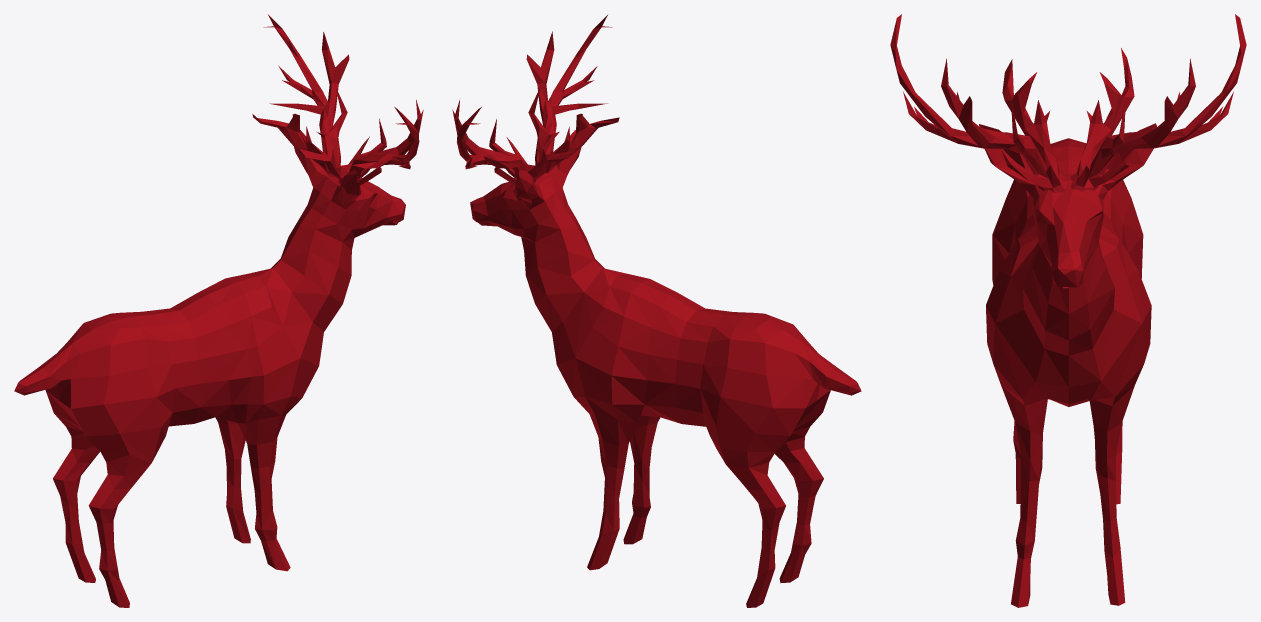
The model's file is myObject-1538757615614.obj.
3 renders of one model, left to right at view 1: azimuth 30°, elevation 25°; view 2: azimuth 150°, elevation 25°; view 3: azimuth 270°, elevation 25°, orthographic. The views are drawn at different scales.
Parts seen in each view (by area): view 1: grp1_grp1_2; view 2: grp1_grp1_2; view 3: grp1_grp1_2.
Part boxes in pixels (bbox=[...]): grp1_grp1_2: bbox=[14, 14, 423, 607]; grp1_grp1_2: bbox=[452, 15, 861, 607]; grp1_grp1_2: bbox=[890, 14, 1246, 607].
Bounding box in the file's own units: 5.51 × 6.47 × 3.3.
